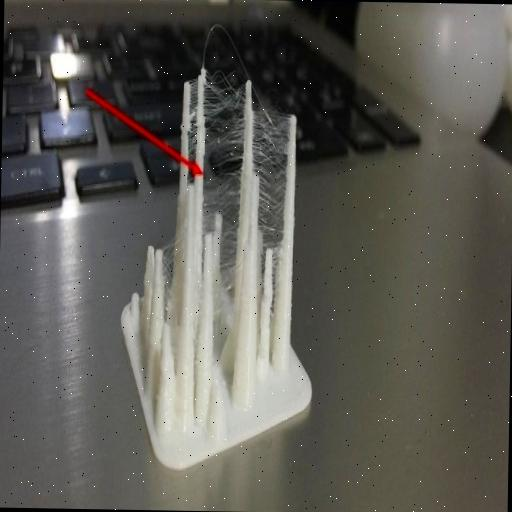stringing: (200, 68, 242, 296), (247, 96, 286, 286), (158, 217, 188, 346)
